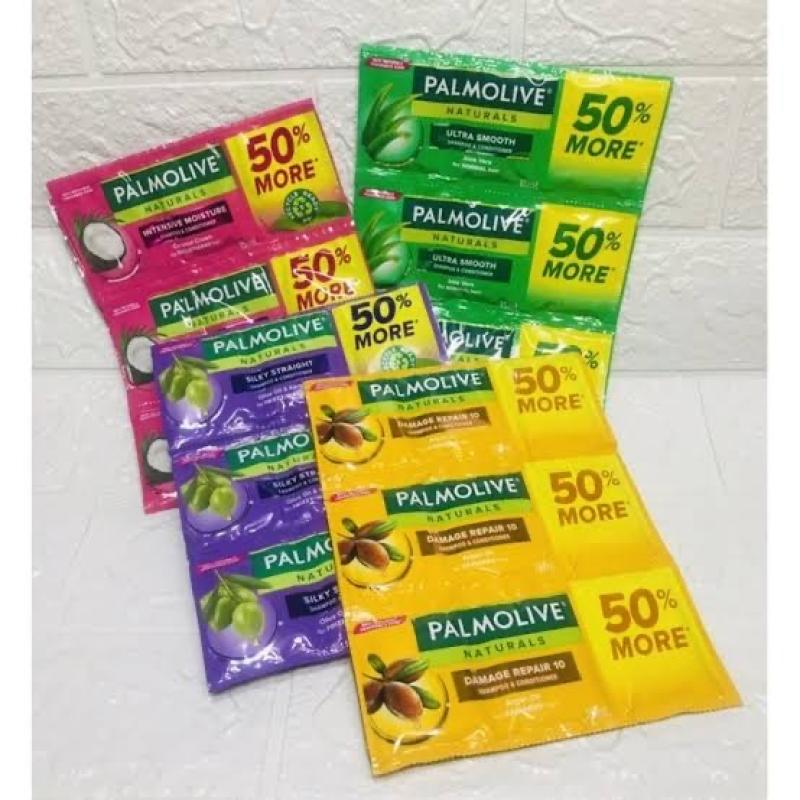plastic sachet: (302, 354, 744, 780), (46, 100, 377, 517), (152, 284, 446, 696), (353, 45, 675, 389)
